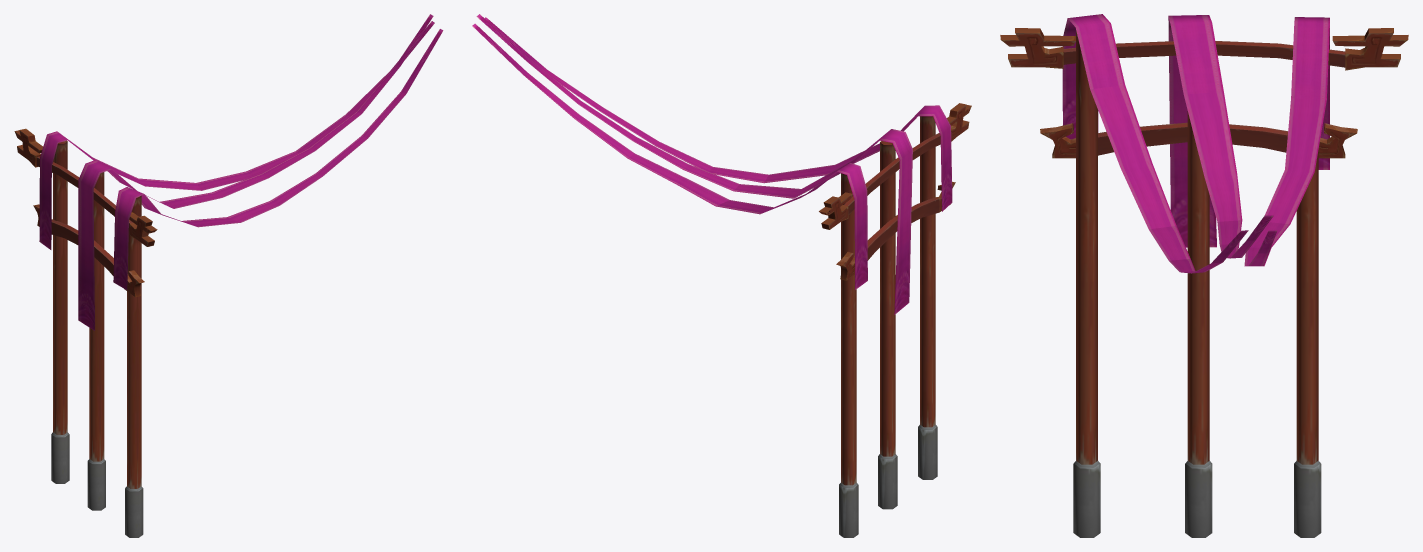
Rendered from ZYthi_CLF_zhujiancaidai02.FBX.
3 renders of one model, left to right at view 1: azimuth 30°, elevation 25°; view 2: azimuth 150°, elevation 25°; view 3: azimuth 270°, elevation 25°, orthographic. The views are drawn at different scales.
Visible parts, largest first — view 1: ZYthi_CLF_zhujiancaidai02; view 2: ZYthi_CLF_zhujiancaidai02; view 3: ZYthi_CLF_zhujiancaidai02.
Part boxes in pixels (box(x1,y1,x2,y2)): ZYthi_CLF_zhujiancaidai02: box(14, 14, 443, 537); ZYthi_CLF_zhujiancaidai02: box(472, 14, 971, 537); ZYthi_CLF_zhujiancaidai02: box(1000, 14, 1408, 537).
Size of the model in its own units: 2300 by 2249 by 1437.
